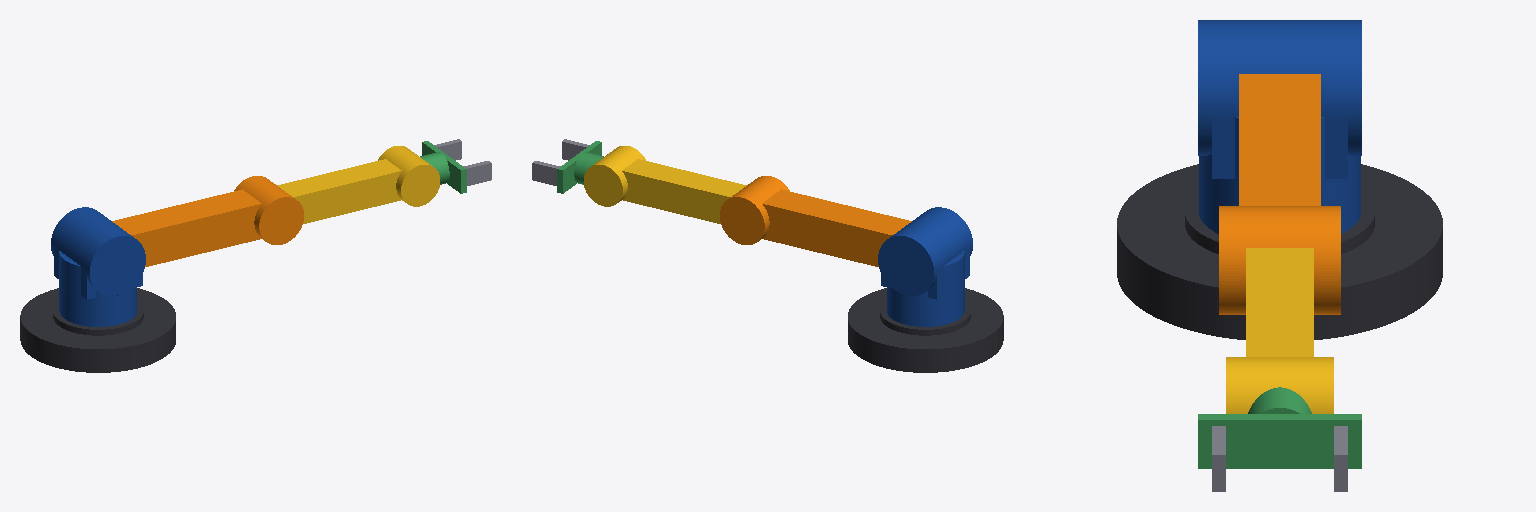
URDF robot description (arm4dof):
<?xml version="1.0"?>
<robot name="arm4dof">
  <link name="base">
    <visual><geometry><mesh filename="base.stl" scale="0.001 0.001 0.001"/></geometry><material name="m_base"><color rgba="0.25 0.25 0.28 1"/></material></visual>
    <collision><geometry><mesh filename="base.stl" scale="0.001 0.001 0.001"/></geometry></collision>
    <inertial><mass value="0.5"/><inertia ixx="0.001" iyy="0.001" izz="0.001" ixy="0" ixz="0" iyz="0"/></inertial>
  </link>
  <link name="turret">
    <visual><geometry><mesh filename="turret.stl" scale="0.001 0.001 0.001"/></geometry><material name="m_turret"><color rgba="0.15 0.35 0.65 1"/></material></visual>
    <collision><geometry><mesh filename="turret.stl" scale="0.001 0.001 0.001"/></geometry></collision>
    <inertial><mass value="0.5"/><inertia ixx="0.001" iyy="0.001" izz="0.001" ixy="0" ixz="0" iyz="0"/></inertial>
  </link>
  <link name="upper_arm">
    <visual><geometry><mesh filename="upper_arm.stl" scale="0.001 0.001 0.001"/></geometry><material name="m_upper_arm"><color rgba="0.95 0.55 0.10 1"/></material></visual>
    <collision><geometry><mesh filename="upper_arm.stl" scale="0.001 0.001 0.001"/></geometry></collision>
    <inertial><mass value="0.5"/><inertia ixx="0.001" iyy="0.001" izz="0.001" ixy="0" ixz="0" iyz="0"/></inertial>
  </link>
  <link name="forearm">
    <visual><geometry><mesh filename="forearm.stl" scale="0.001 0.001 0.001"/></geometry><material name="m_forearm"><color rgba="0.95 0.75 0.15 1"/></material></visual>
    <collision><geometry><mesh filename="forearm.stl" scale="0.001 0.001 0.001"/></geometry></collision>
    <inertial><mass value="0.5"/><inertia ixx="0.001" iyy="0.001" izz="0.001" ixy="0" ixz="0" iyz="0"/></inertial>
  </link>
  <link name="wrist_gripper">
    <visual><geometry><mesh filename="wrist_gripper.stl" scale="0.001 0.001 0.001"/></geometry><material name="m_wrist_gripper"><color rgba="0.30 0.65 0.40 1"/></material></visual>
    <collision><geometry><mesh filename="wrist_gripper.stl" scale="0.001 0.001 0.001"/></geometry></collision>
    <inertial><mass value="0.5"/><inertia ixx="0.001" iyy="0.001" izz="0.001" ixy="0" ixz="0" iyz="0"/></inertial>
  </link>
  <link name="finger_l">
    <visual><geometry><mesh filename="finger.stl" scale="0.001 0.001 0.001"/></geometry><material name="m_finger_l"><color rgba="0.55 0.55 0.60 1"/></material></visual>
    <collision><geometry><mesh filename="finger.stl" scale="0.001 0.001 0.001"/></geometry></collision>
    <inertial><mass value="0.5"/><inertia ixx="0.001" iyy="0.001" izz="0.001" ixy="0" ixz="0" iyz="0"/></inertial>
  </link>
  <link name="finger_r">
    <visual><geometry><mesh filename="finger.stl" scale="0.001 0.001 0.001"/></geometry><material name="m_finger_r"><color rgba="0.55 0.55 0.60 1"/></material></visual>
    <collision><geometry><mesh filename="finger.stl" scale="0.001 0.001 0.001"/></geometry></collision>
    <inertial><mass value="0.5"/><inertia ixx="0.001" iyy="0.001" izz="0.001" ixy="0" ixz="0" iyz="0"/></inertial>
  </link>
  <joint name="J1_base_yaw" type="revolute"><parent link="base"/><child link="turret"/><origin xyz="0 0 0" rpy="0 0 0"/><axis xyz="0 0 1"/>
    <limit lower="-2.96706" upper="2.96706" effort="50" velocity="2.0"/></joint>
  <joint name="J2_shoulder" type="revolute"><parent link="turret"/><child link="upper_arm"/><origin xyz="0 0 0.15" rpy="0 0 0"/><axis xyz="0 -1 0"/>
    <limit lower="-0.17453" upper="2.96706" effort="50" velocity="2.0"/></joint>
  <joint name="J3_elbow" type="revolute"><parent link="upper_arm"/><child link="forearm"/><origin xyz="0.3 0 0" rpy="0 0 0"/><axis xyz="0 -1 0"/>
    <limit lower="-2.61799" upper="0.00000" effort="50" velocity="2.0"/></joint>
  <joint name="J4_wrist" type="revolute"><parent link="forearm"/><child link="wrist_gripper"/><origin xyz="0.25 0 0" rpy="0 0 0"/><axis xyz="0 -1 0"/>
    <limit lower="-2.09440" upper="2.09440" effort="50" velocity="2.0"/></joint>
  <joint name="G1_finger_left" type="prismatic"><parent link="wrist_gripper"/><child link="finger_l"/><origin xyz="0.07 0.045 0" rpy="0 0 0"/><axis xyz="0 -1 0"/>
    <limit lower="0" upper="0.02" effort="50" velocity="2.0"/></joint>
  <joint name="G1_finger_right" type="prismatic"><parent link="wrist_gripper"/><child link="finger_r"/><origin xyz="0.07 -0.045 0" rpy="0 0 0"/><axis xyz="0 1 0"/>
    <limit lower="0" upper="0.02" effort="50" velocity="2.0"/></joint>
</robot>

--- Facts derived from the render (not from the file) ---
3 views of the same robot in one strip: view 1: azimuth 30°, elevation 25°; view 2: azimuth 150°, elevation 25°; view 3: azimuth 270°, elevation 25° (orthographic).
Model arm4dof with 7 links and 6 joints (4 revolute, 2 prismatic), rooted at base, posed every joint at zero.
Visible links, largest first — view 1: upper_arm, turret, base, forearm, wrist_gripper; view 2: upper_arm, turret, base, forearm, wrist_gripper; view 3: base, turret, upper_arm, forearm, wrist_gripper, finger_l, finger_r.
Boxes of the visible links, bbox=[...] form: upper_arm: bbox=[112, 176, 303, 266]; turret: bbox=[51, 207, 145, 326]; base: bbox=[20, 288, 175, 372]; forearm: bbox=[277, 146, 439, 223]; wrist_gripper: bbox=[420, 141, 466, 193]; upper_arm: bbox=[720, 176, 911, 266]; turret: bbox=[878, 207, 972, 326]; base: bbox=[848, 288, 1003, 372]; forearm: bbox=[584, 146, 746, 223]; wrist_gripper: bbox=[557, 141, 603, 193]; base: bbox=[1117, 164, 1442, 339]; turret: bbox=[1198, 20, 1361, 233]; upper_arm: bbox=[1219, 74, 1340, 314]; forearm: bbox=[1226, 248, 1333, 413]; wrist_gripper: bbox=[1198, 387, 1361, 468]; finger_l: bbox=[1334, 426, 1347, 491]; finger_r: bbox=[1212, 426, 1225, 491].
Bounding box of the posed robot: 0.79 × 0.2399 × 0.2 m (x, y, z).
7 mesh visuals loaded from 6 distinct referenced files (6 binary STL).
